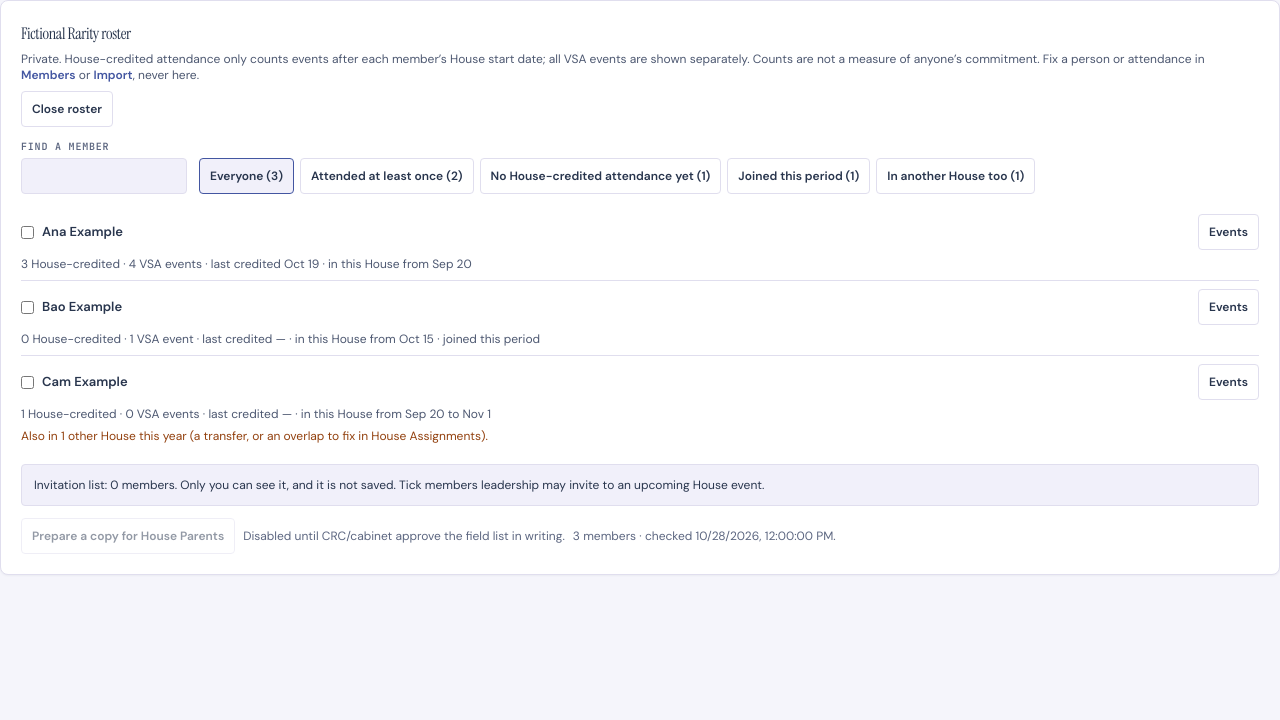
Scenario: shows both active Houses when overlapping memberships can double-credit an event
Step 1. Click the button named "Events for Ana Example" → {"x": 1228, "y": 232}, box [1198,214,1259,250]
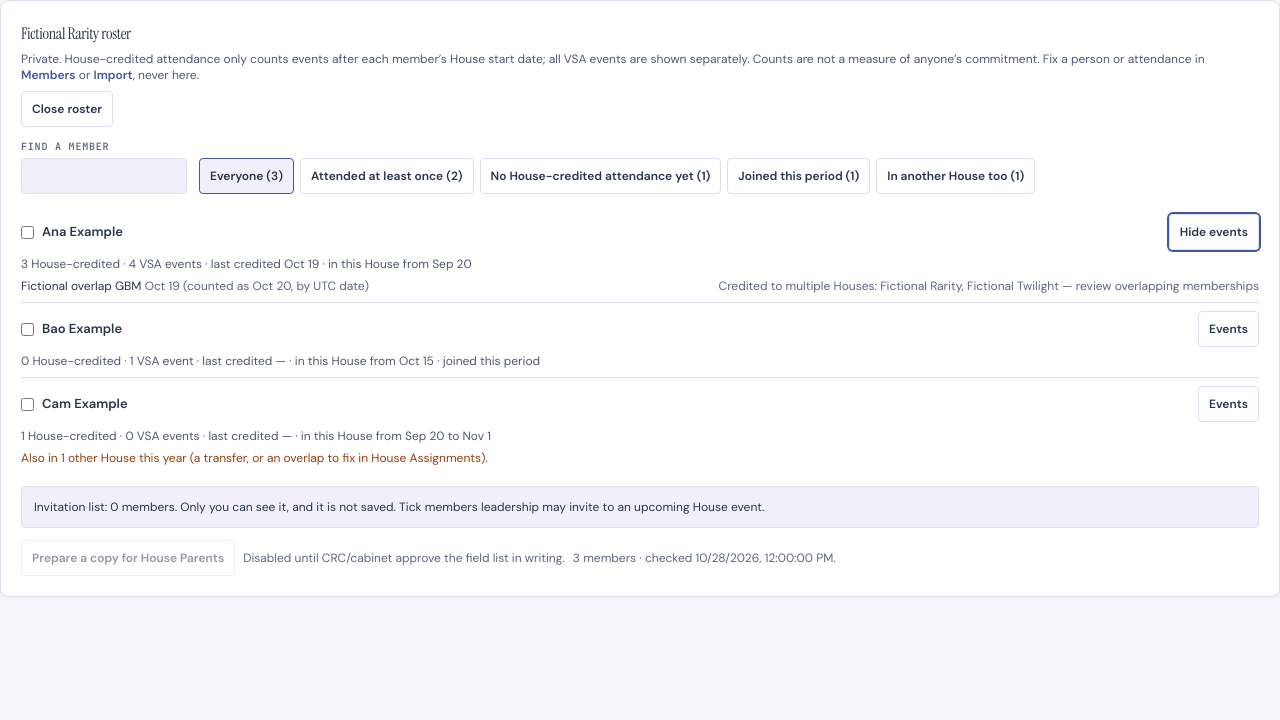
Expected: the text "review overlapping memberships" is shown, [718,278,1259,294]
